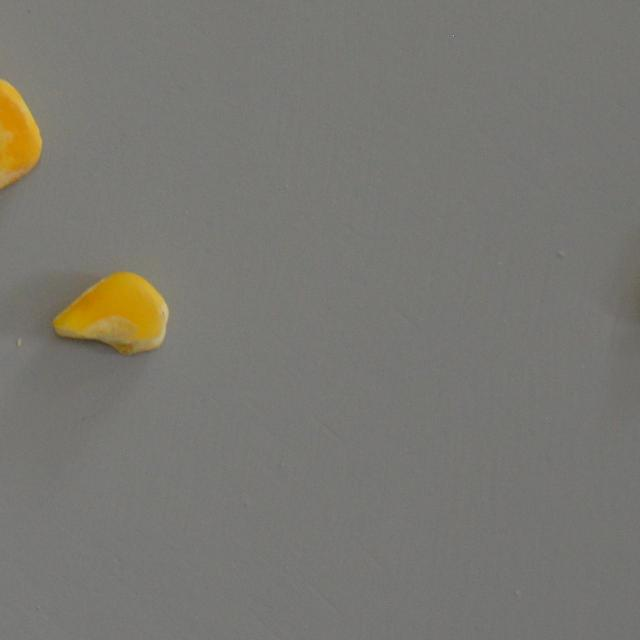pelicula: (52, 265, 170, 364)
punto_negro: (0, 76, 44, 197)
